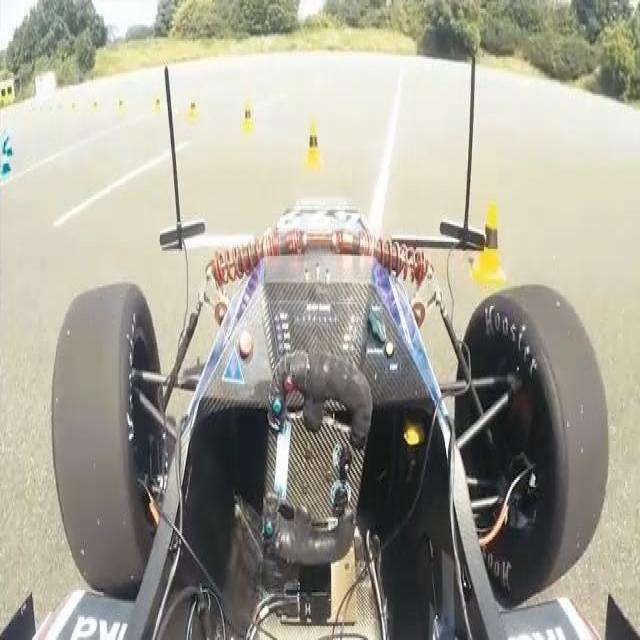blue_cone: (0, 149, 10, 176), (4, 130, 12, 158)
yellow_cone: (470, 196, 504, 286), (302, 121, 324, 172), (241, 100, 255, 138), (188, 96, 200, 129), (155, 94, 167, 121), (115, 95, 127, 122), (90, 94, 100, 120)
